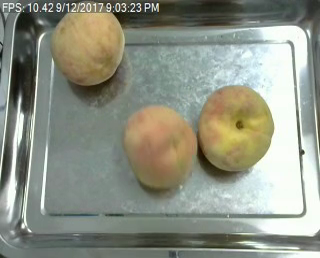Peach: (198, 83, 274, 172), (122, 105, 198, 189), (50, 2, 126, 86)
